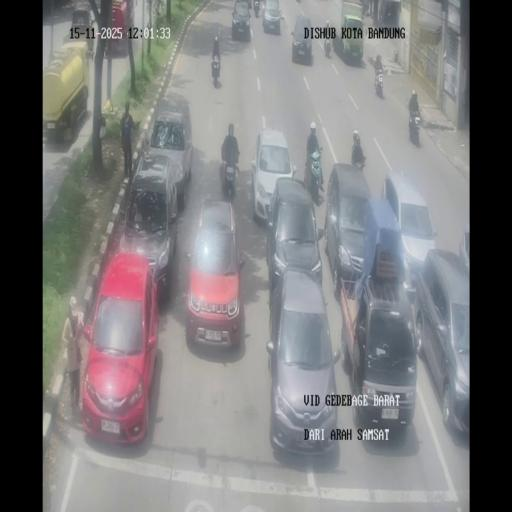3: (42, 42, 90, 142), (334, 2, 364, 64), (108, 0, 133, 56)
car: (80, 252, 160, 444), (266, 270, 339, 458), (412, 251, 469, 439), (186, 198, 246, 351), (380, 172, 437, 296), (325, 164, 373, 294), (144, 102, 192, 205), (251, 127, 297, 225), (291, 15, 313, 65), (231, 0, 251, 41), (458, 224, 470, 283), (262, 0, 281, 34)
truck: (305, 146, 325, 204), (222, 157, 238, 200), (408, 111, 421, 146), (211, 50, 221, 87), (351, 145, 366, 169), (374, 66, 385, 98), (85, 27, 95, 59), (324, 32, 332, 58), (378, 4, 385, 25), (361, 0, 369, 18), (253, 0, 260, 16), (247, 0, 252, 16)
